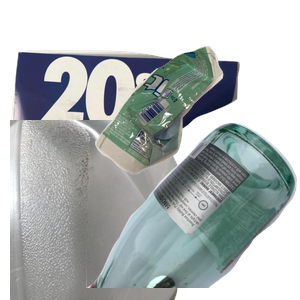glass: (86, 120, 300, 300)
paper: (10, 41, 242, 207)
plastic: (10, 120, 190, 300)
trash: (92, 44, 300, 211)
